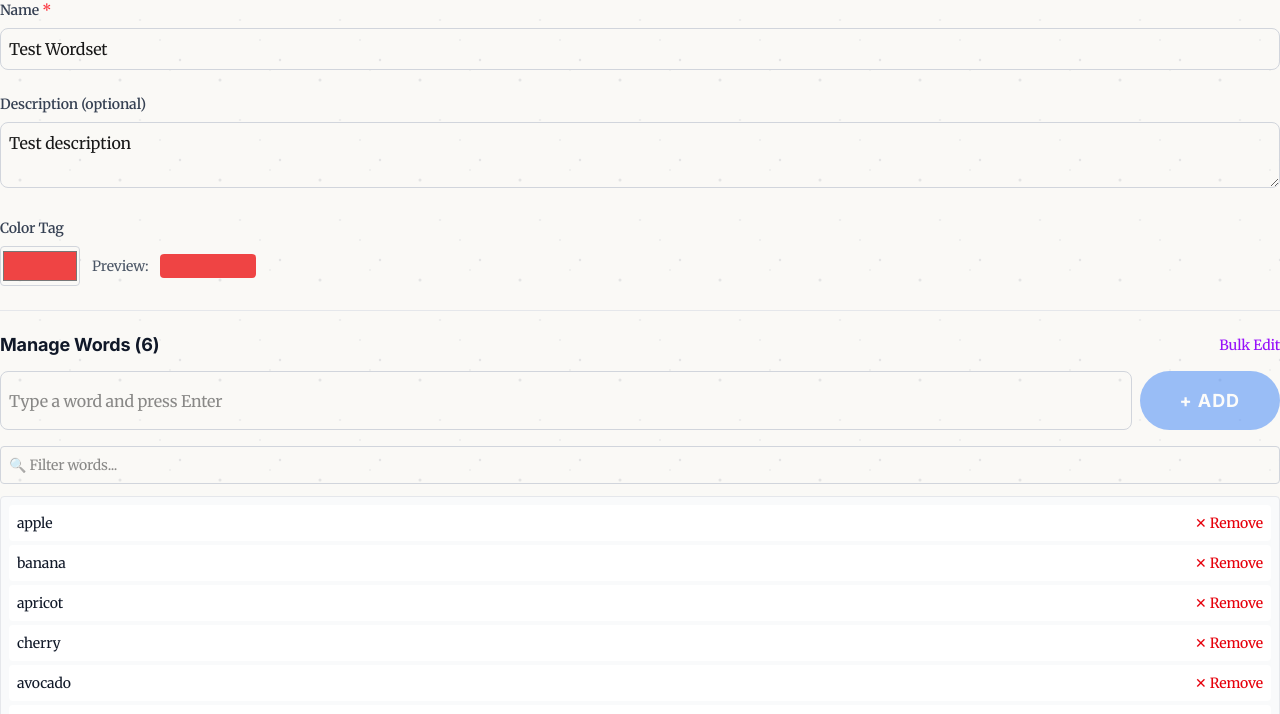
Test case: WordsetEditor › word search/filter › shows no match message when filter returns no results
Step 1. Type "xyz" into the field with placeholder "🔍 Filter words..." → [640, 465], box left=0, top=446, right=1279, bottom=484
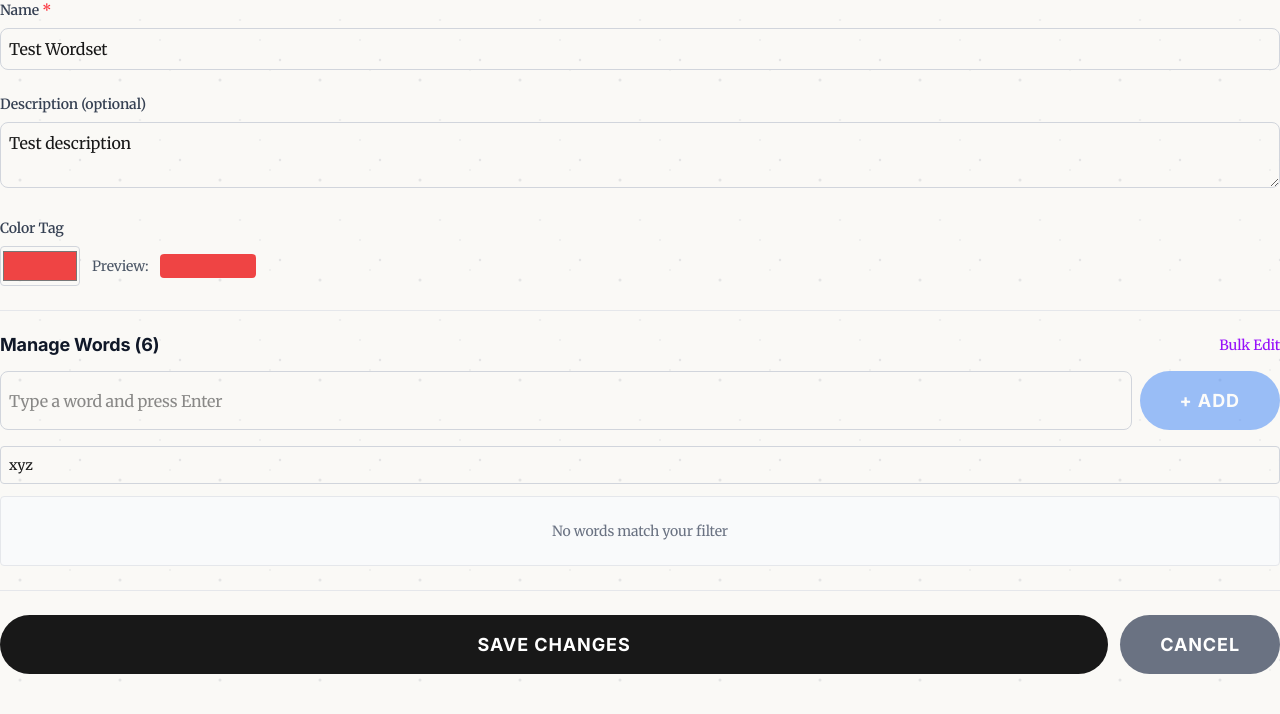
Expected: the text "No words match your filter" is shown, left=552, top=522, right=728, bottom=540
